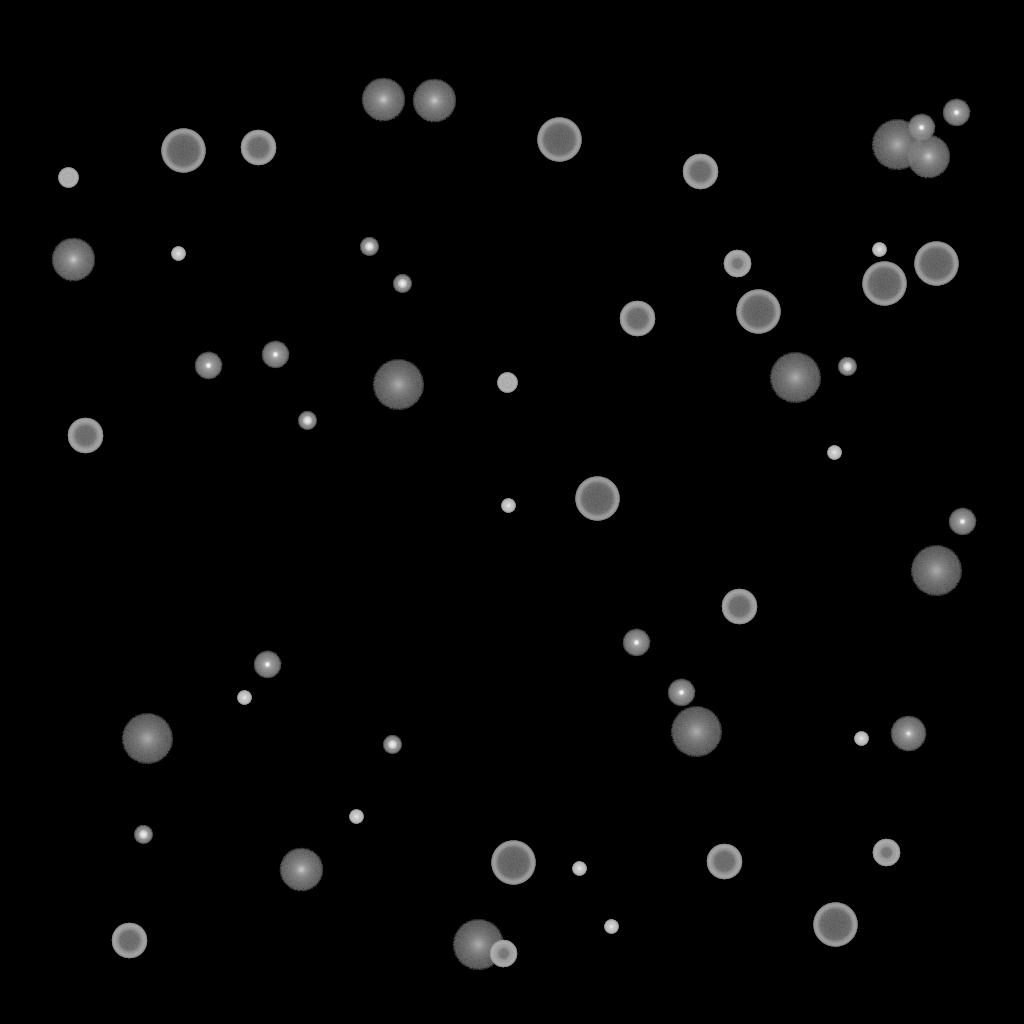depth:-10: (261, 341, 289, 369), (667, 679, 695, 707), (907, 114, 935, 142), (948, 508, 976, 536), (253, 651, 281, 679), (942, 99, 970, 127), (194, 352, 222, 380), (622, 629, 650, 657)
depth:-20: (298, 412, 316, 430), (383, 736, 401, 754), (360, 238, 378, 256), (393, 275, 411, 293), (838, 358, 856, 376), (134, 826, 152, 844)
depth:-30: (501, 499, 515, 513), (349, 810, 363, 824), (572, 862, 586, 876), (827, 446, 841, 460), (237, 691, 251, 705), (604, 920, 618, 934), (171, 247, 185, 261), (872, 243, 886, 257), (854, 732, 868, 746)
depth:-40: (497, 373, 517, 393), (58, 168, 78, 188)
depth:-50: (872, 839, 900, 867), (723, 250, 751, 278), (489, 940, 517, 968)
depth:-60: (619, 301, 655, 337), (67, 418, 103, 454), (682, 154, 718, 190), (721, 589, 757, 625), (706, 844, 742, 880), (240, 130, 276, 166), (111, 923, 147, 959)
depth:-70: (161, 129, 205, 173), (537, 118, 581, 162), (914, 242, 958, 286), (491, 841, 535, 885), (862, 262, 906, 306), (813, 903, 857, 947), (575, 477, 619, 521), (736, 290, 780, 334)
depth:0: (890, 716, 926, 752)
depth:10: (906, 135, 950, 179), (412, 79, 456, 123), (279, 848, 323, 892), (51, 238, 95, 282), (361, 78, 405, 122)
depth:20: (372, 360, 424, 410), (670, 707, 722, 757), (910, 546, 962, 596), (452, 920, 504, 970), (871, 120, 923, 170), (769, 353, 821, 403), (121, 714, 173, 764)
